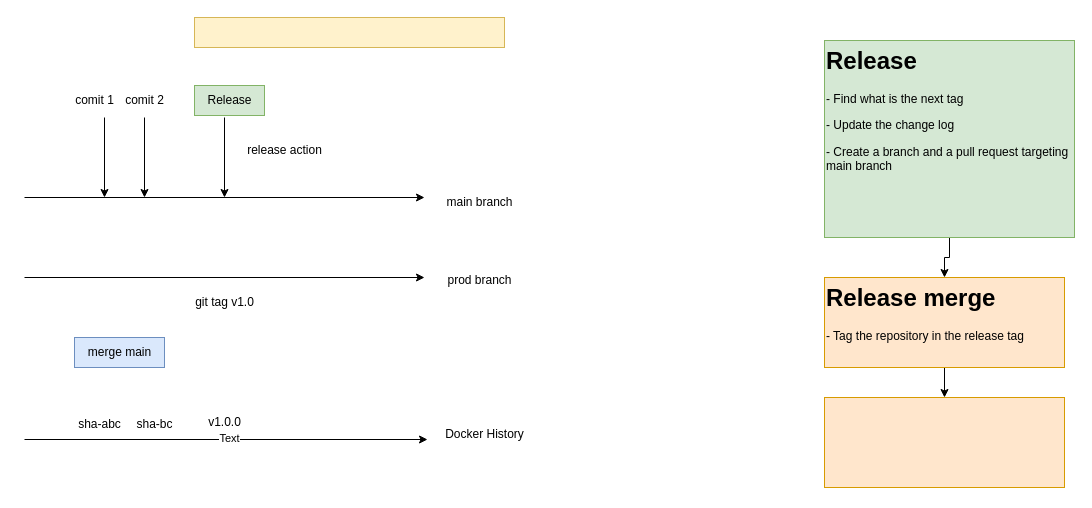
Some shapes in this 1092 by 508 pixel diagram are drawn without their labels. Each missing label, with the centre of its shape:
Container Tag - Tag the docker container in the repository tag.: the point at 944,442
release action / manually create the release locally: the point at 349,32
